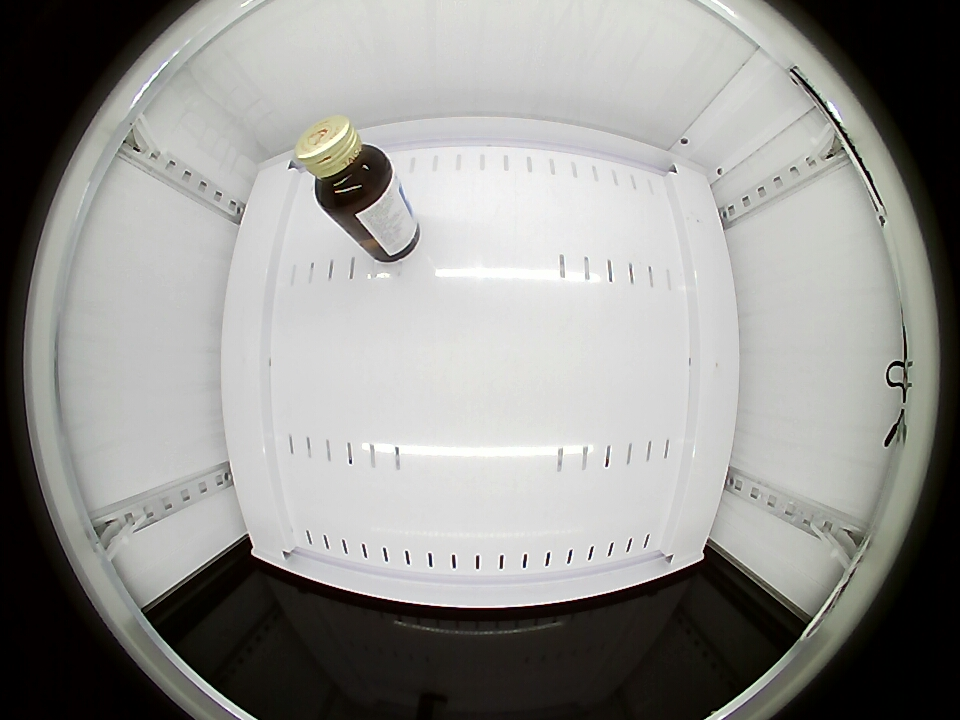libaojian: (295, 116, 395, 218)
